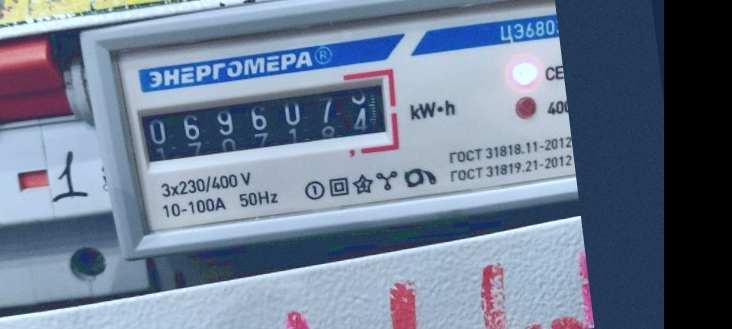0: (281, 96, 302, 128), (147, 116, 168, 146)
4: (349, 103, 370, 134)
6: (248, 101, 269, 132), (181, 111, 201, 141)
7: (315, 93, 337, 126)
9: (214, 107, 235, 137)
screen: (123, 64, 408, 180)
